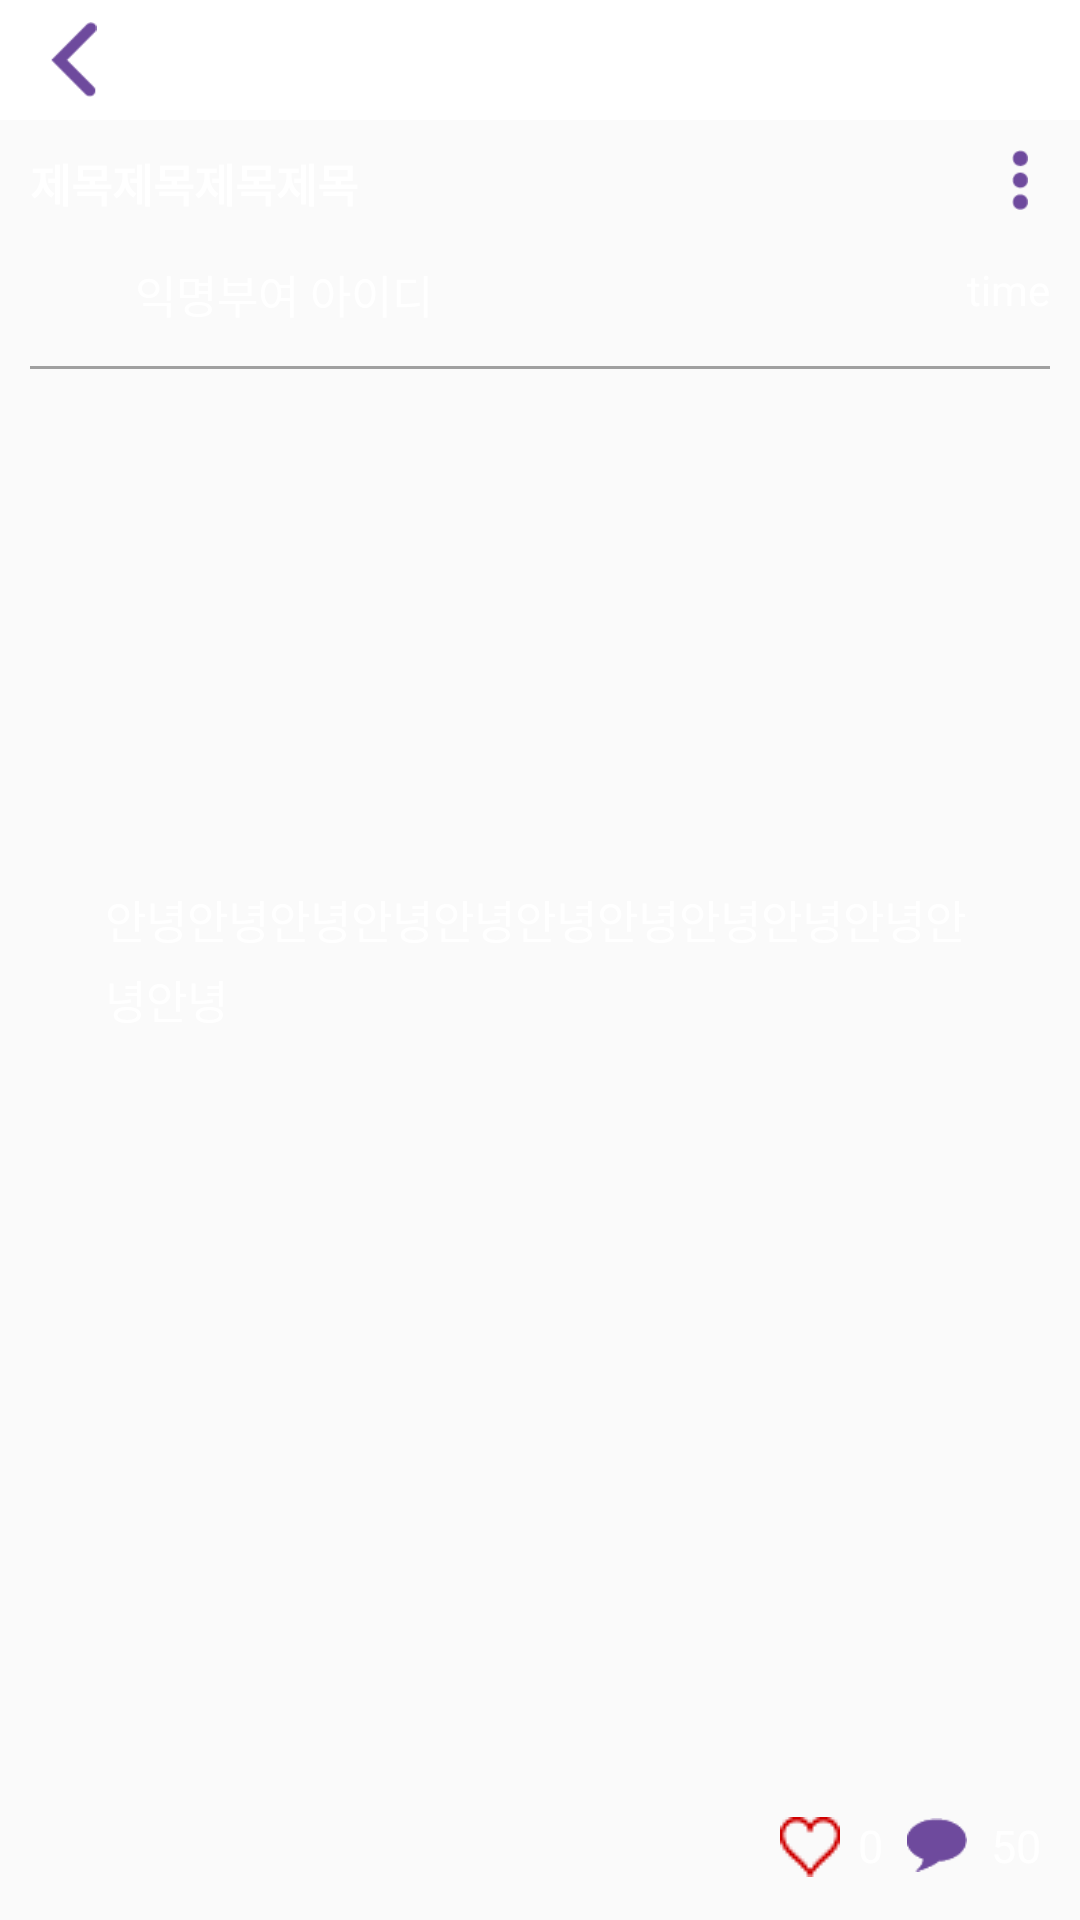

Icons on this 1080×1920 Android screen, each with its box as rect(x1, y1, x2, y2):
back: rect(51, 22, 97, 97)
comm vio: rect(907, 1818, 967, 1872)
like: rect(780, 1817, 840, 1877)
more: rect(1012, 150, 1028, 210)
